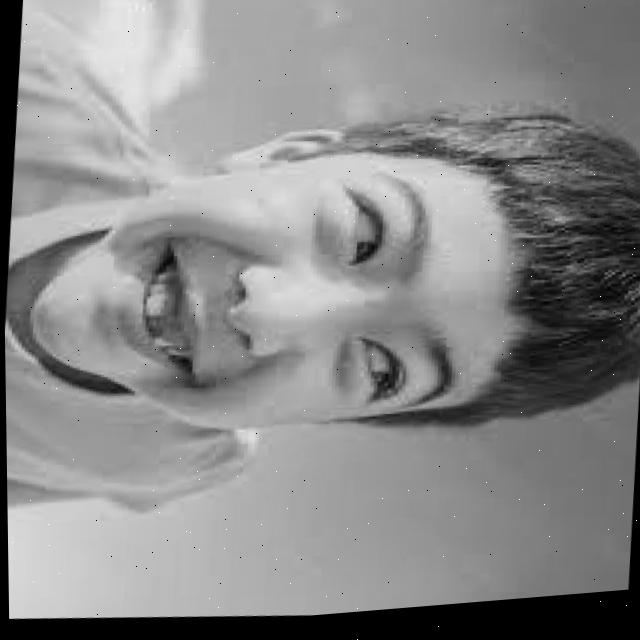happy: (7, 107, 580, 508)
